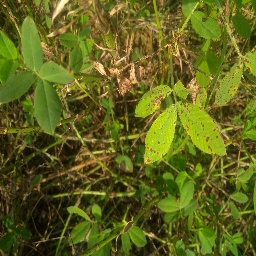GroundNut_Leaf: (182, 104, 228, 158), (143, 104, 178, 166), (35, 82, 62, 134), (214, 63, 245, 102), (21, 15, 41, 70), (192, 12, 222, 39), (69, 221, 91, 244), (129, 226, 149, 249), (181, 182, 196, 208)
